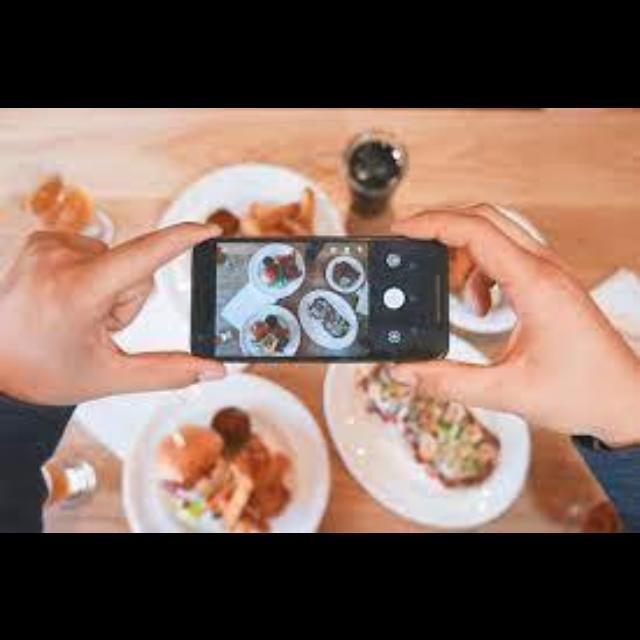phone: (167, 211, 479, 377)
